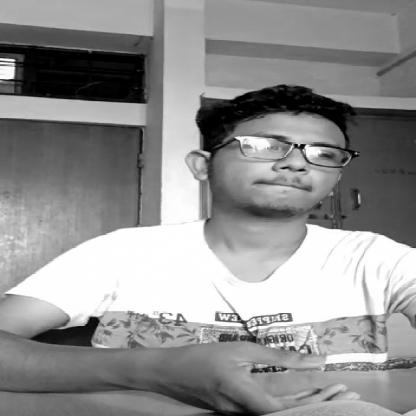Normal: (202, 93, 352, 221)
